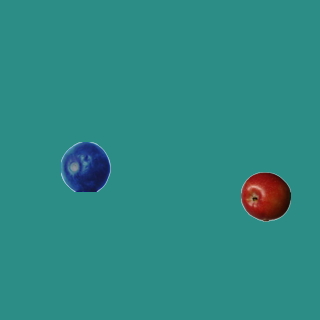Apple Braeburn: (240, 171, 290, 221)
Huckleberry: (60, 141, 110, 191)
